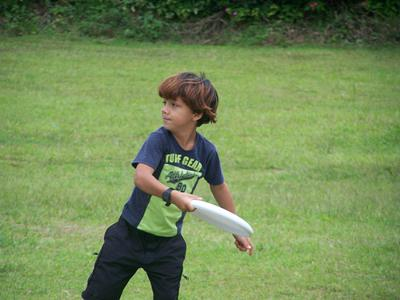person: (80, 72, 255, 300)
